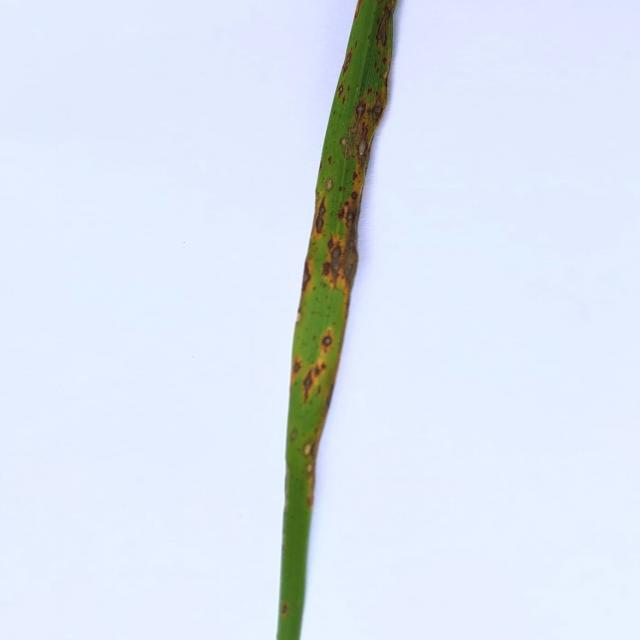leaf blast: (339, 240, 361, 284), (356, 124, 372, 169), (329, 242, 344, 288), (314, 196, 330, 237), (301, 367, 313, 404), (341, 48, 356, 76), (352, 100, 368, 124), (301, 262, 313, 293), (344, 207, 358, 231), (312, 362, 329, 377), (321, 330, 333, 350), (291, 357, 302, 376), (320, 259, 331, 278), (324, 235, 337, 251), (338, 134, 351, 150), (324, 176, 336, 193), (301, 442, 313, 456), (280, 601, 290, 617), (289, 427, 298, 443), (336, 83, 345, 99), (336, 207, 346, 221), (305, 462, 314, 474), (350, 190, 359, 201), (382, 68, 390, 80), (374, 0, 386, 5)
